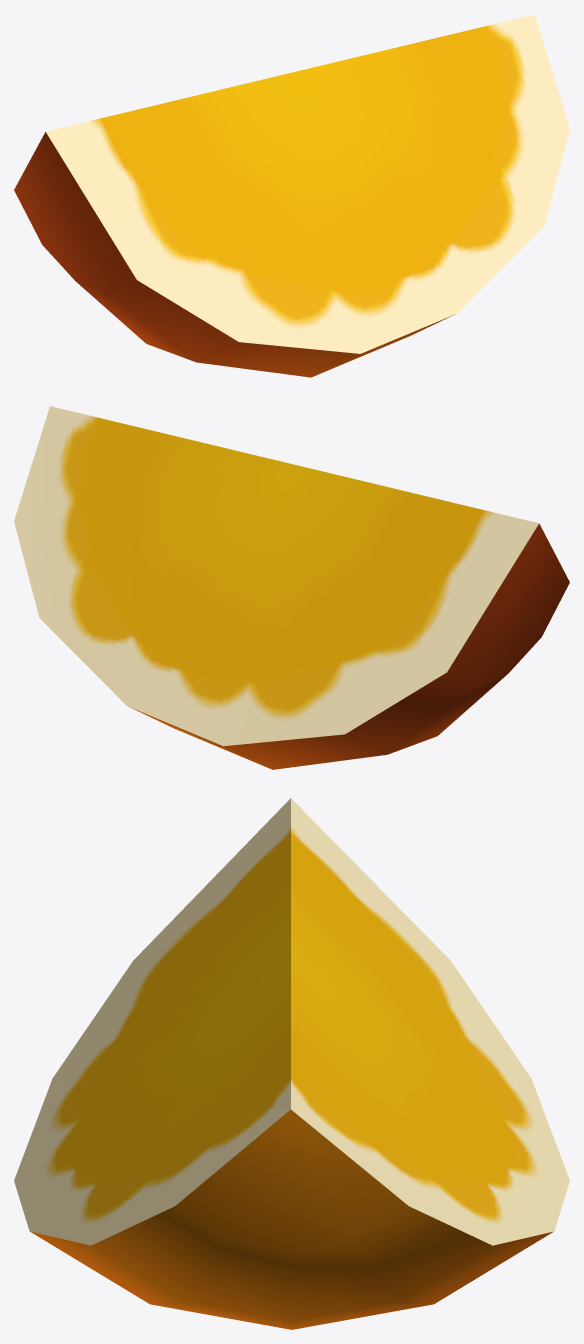
Rendered from Orange_Slice_02.glb.
The picture shows the model from 3 angles, top to bottom: view 1: azimuth 30°, elevation 25°; view 2: azimuth 150°, elevation 25°; view 3: azimuth 270°, elevation 25°; orthographic projection. The views are drawn at different scales.
Parts seen in each view (by area): view 1: Orange_Slice_02; view 2: Orange_Slice_02; view 3: Orange_Slice_02.
Boxes of the visible parts, left/top/right/bottom form: Orange_Slice_02: left=14, top=14, right=569, bottom=377; Orange_Slice_02: left=14, top=406, right=569, bottom=769; Orange_Slice_02: left=14, top=798, right=569, bottom=1329.
Bounding box in the file's own units: 0.1894 × 0.1019 × 0.1442.
Materials: 1 (1 with a texture image).
